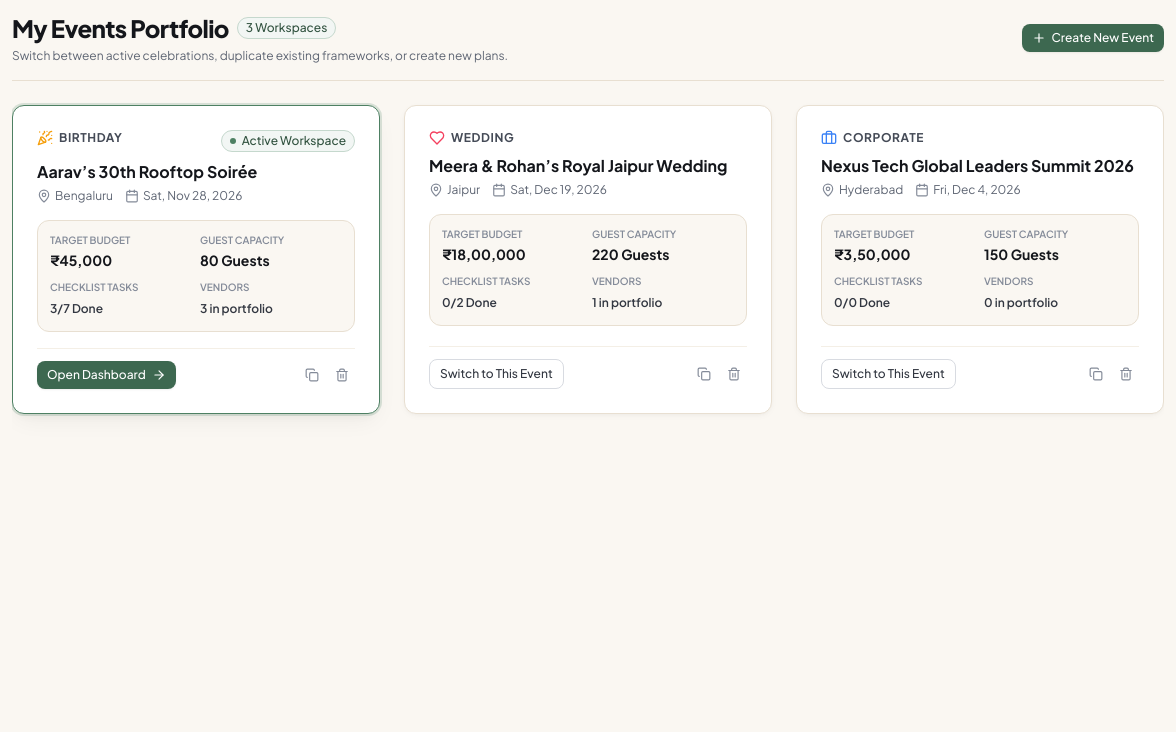
Scenario: EventsPage Feature Tests › allows duplicating an event into a new workspace
Click the button named "Duplicate" below "₹45,000". click: point(312, 375)
box: [299, 362, 325, 388]
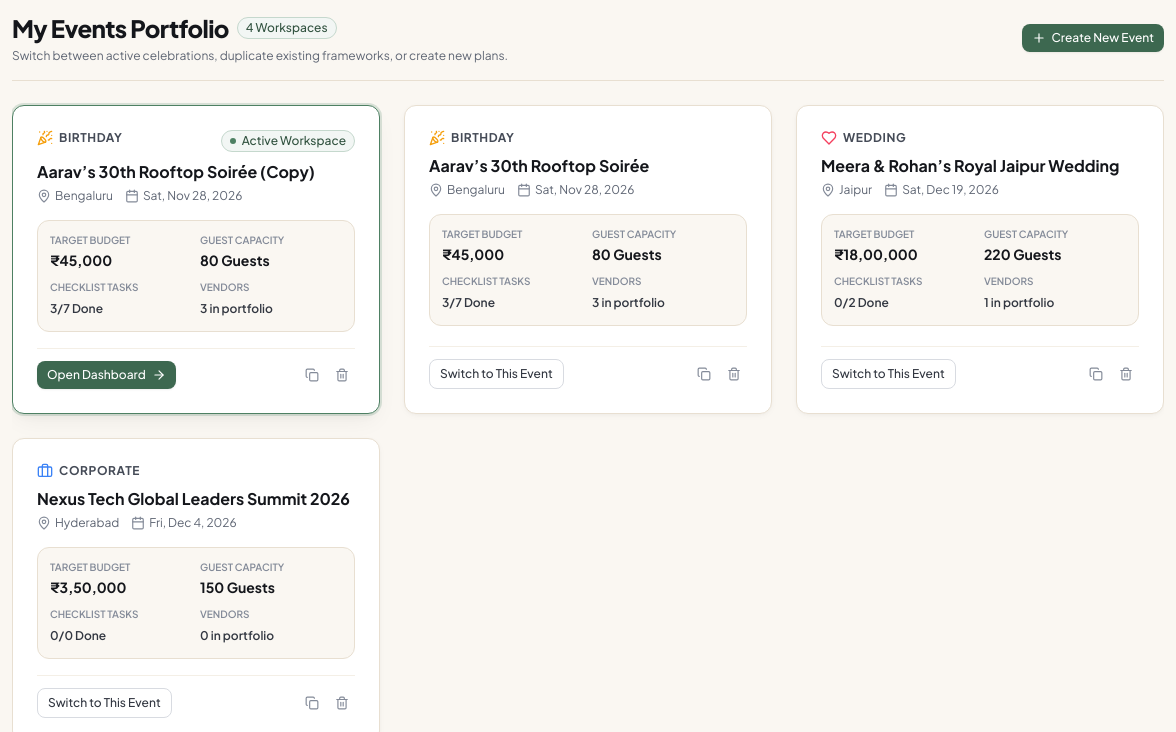
Now the heading "Aarav’s 30th Rooftop Soirée (Copy)" is shown, box [37, 160, 355, 184]
